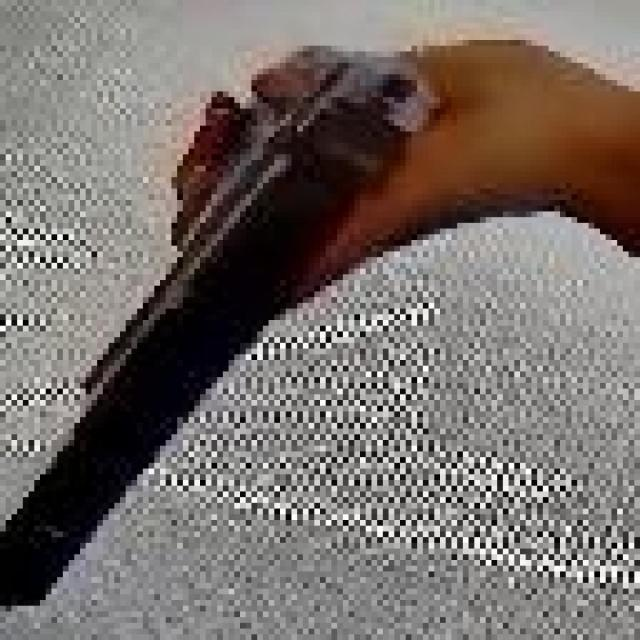pistol: (0, 36, 511, 631)
